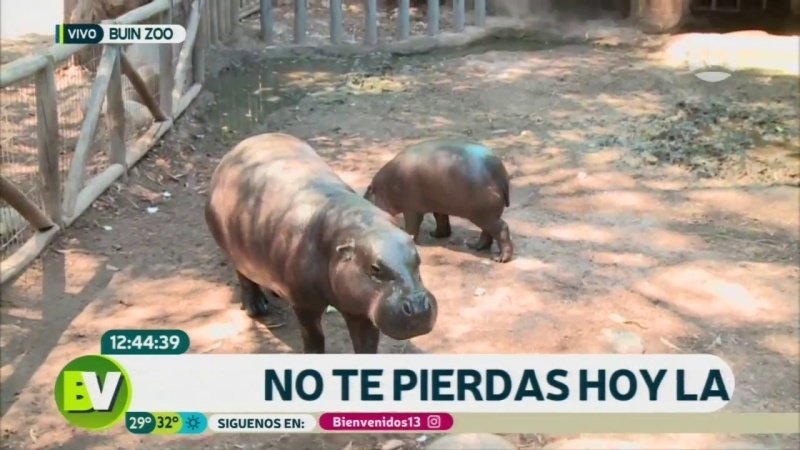hipopotamo: (182, 113, 442, 352), (354, 125, 529, 266)
